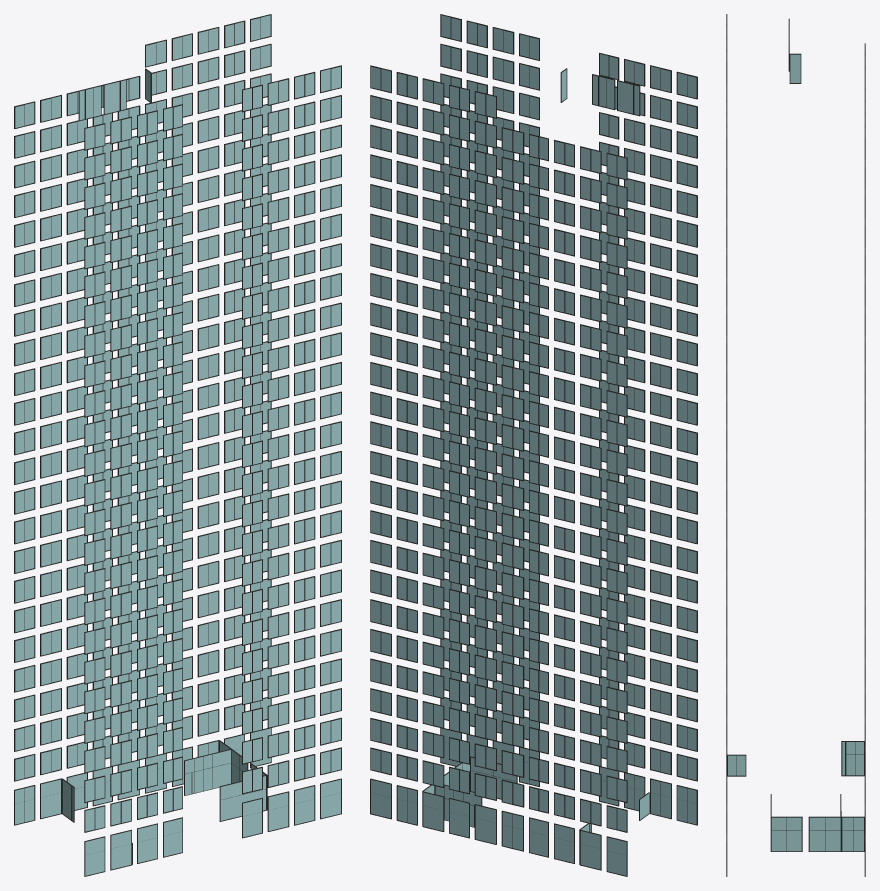
The model's file is MSH_Ventanas-Torre-B.fbx.
3 renders of one model, left to right at view 1: azimuth 30°, elevation 25°; view 2: azimuth 150°, elevation 25°; view 3: azimuth 270°, elevation 25°, orthographic.
Parts seen in each view (by area): view 1: MSH_Ventanas-Torre-B; view 2: MSH_Ventanas-Torre-B; view 3: MSH_Ventanas-Torre-B.
Part boxes in pixels (x1,y1,x2,y2): MSH_Ventanas-Torre-B: [14, 14, 341, 876]; MSH_Ventanas-Torre-B: [370, 14, 697, 876]; MSH_Ventanas-Torre-B: [726, 14, 865, 876].
Bounding box in the file's own units: 2994 × 8418 × 1425.
